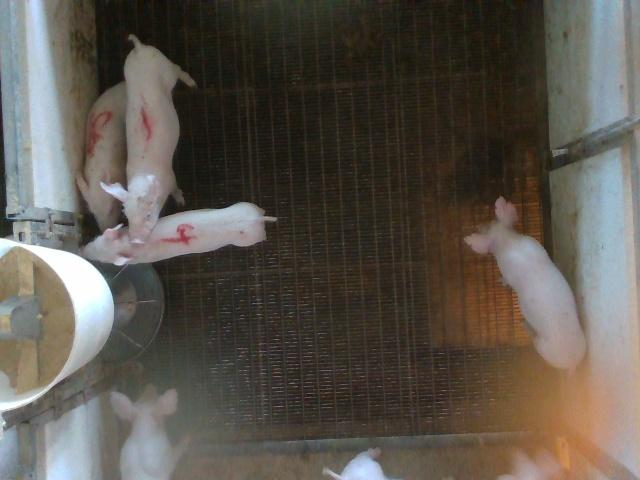pig-1: (102, 35, 195, 243)
pig-4: (82, 202, 276, 264)
pig-5: (76, 81, 126, 231)
